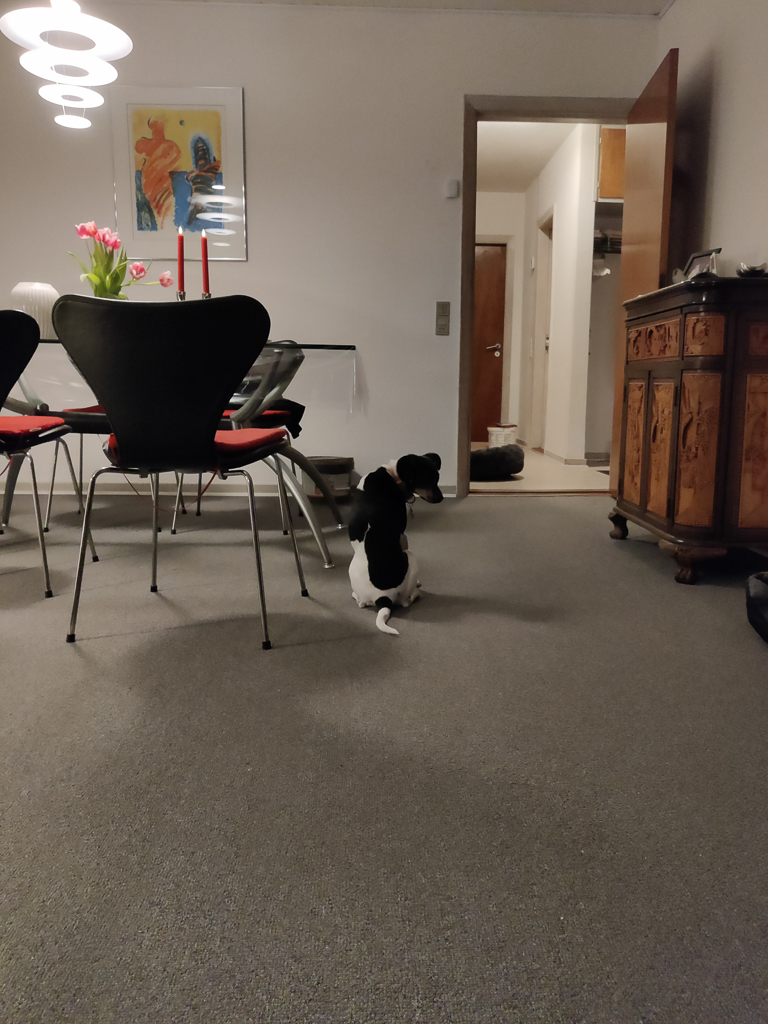Dog: (337, 446, 451, 642)
